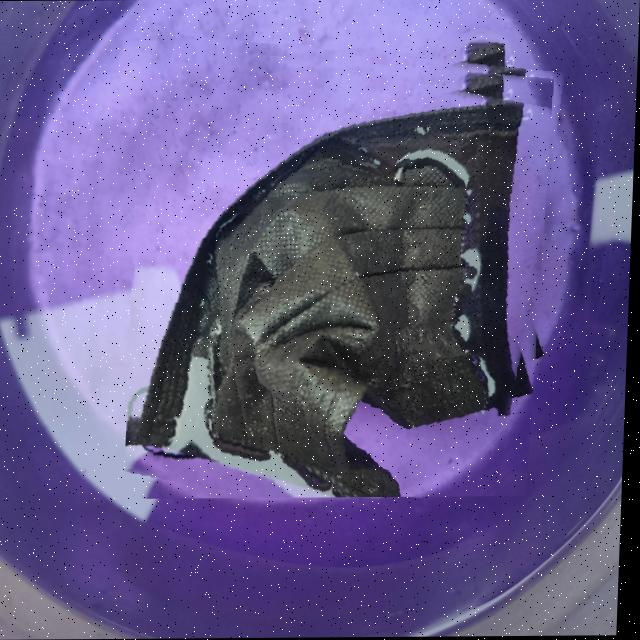litter: (127, 42, 556, 498)
